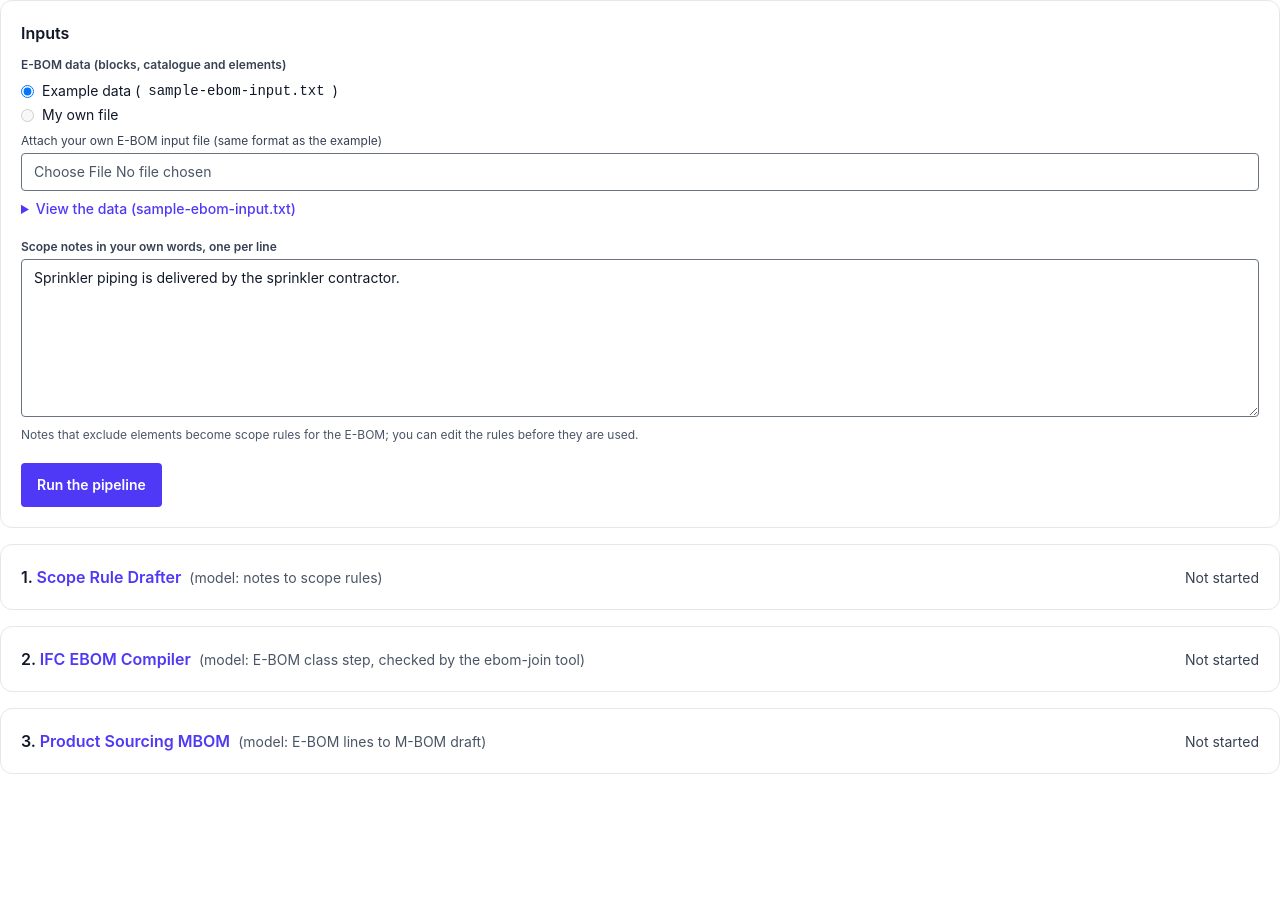
it: PipelineRunner › a failed step stops the pipeline; Start over returns to the inputs
Step 1. Replace the text in the text box labelled "Scope notes in your own words, one per line" with "please fail now" → [640, 338], box x1=21 y1=259 x2=1259 y2=417
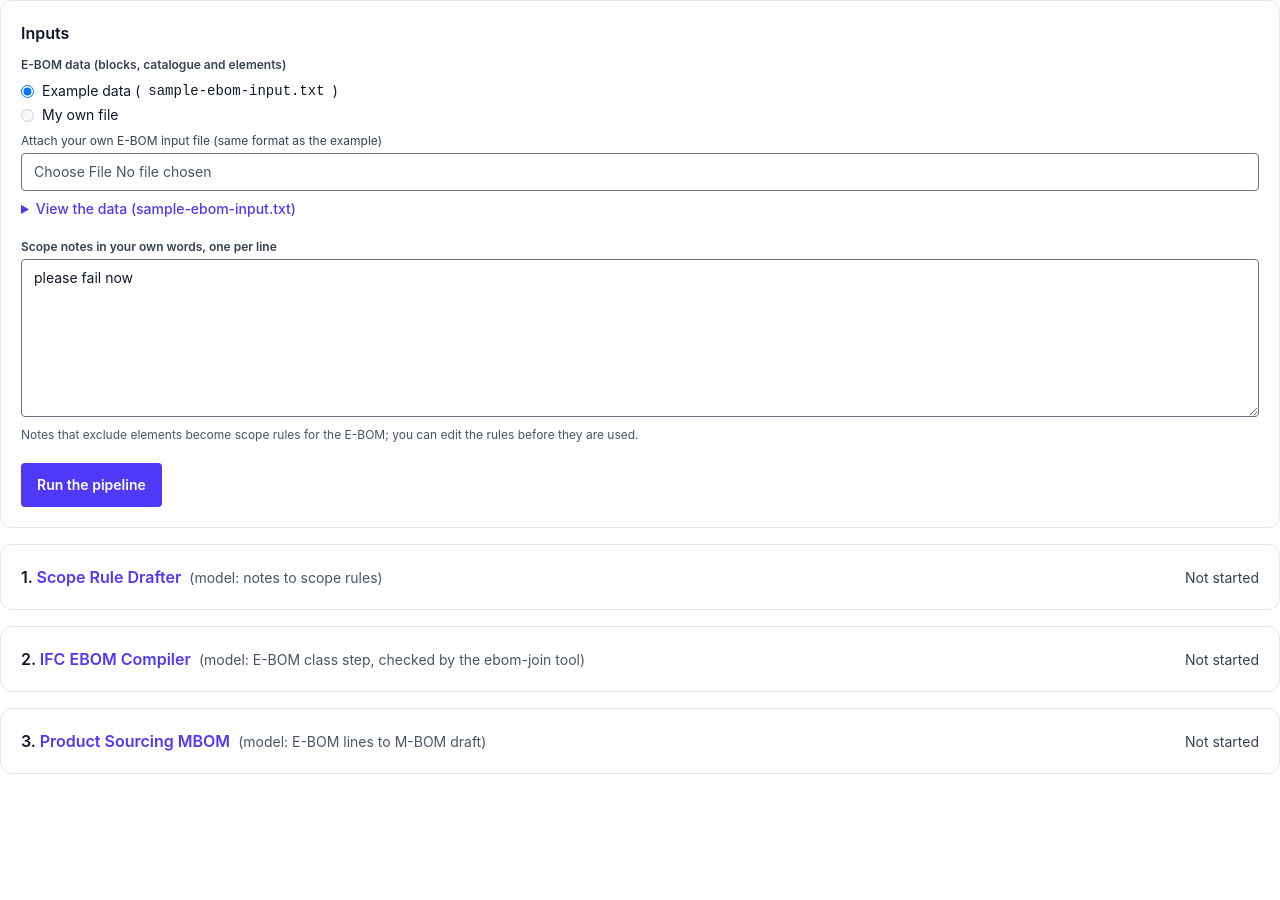
Step 2. Click the button "Run the pipeline" → [91, 485], box x1=21 y1=463 x2=162 y2=507
Wait 4400 ms
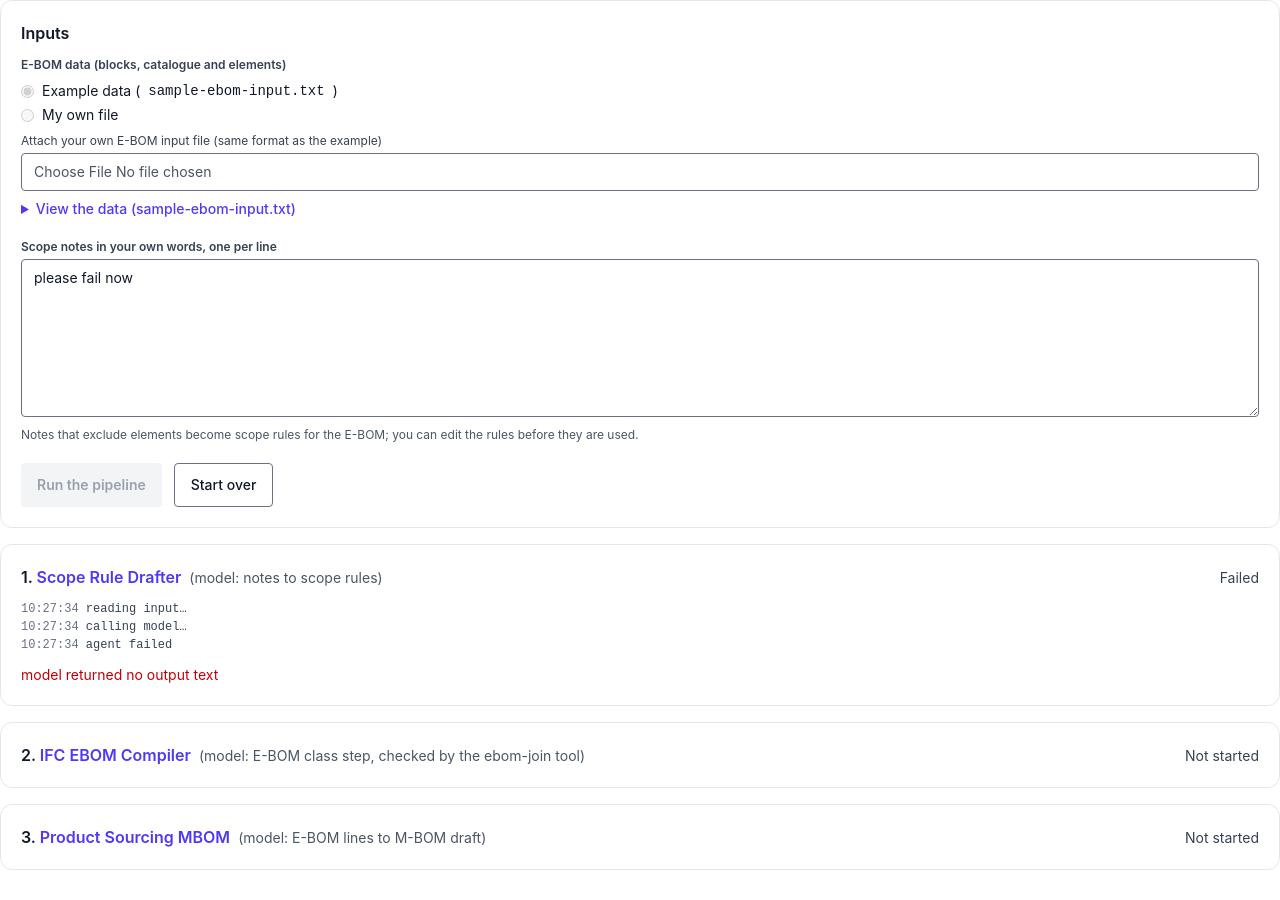
Expected: the text with test id "step-0-status" reads "Failed", x1=1220 y1=569 x2=1259 y2=586
Step 3. Click the button "Start over" → [224, 485], box x1=174 y1=463 x2=273 y2=507
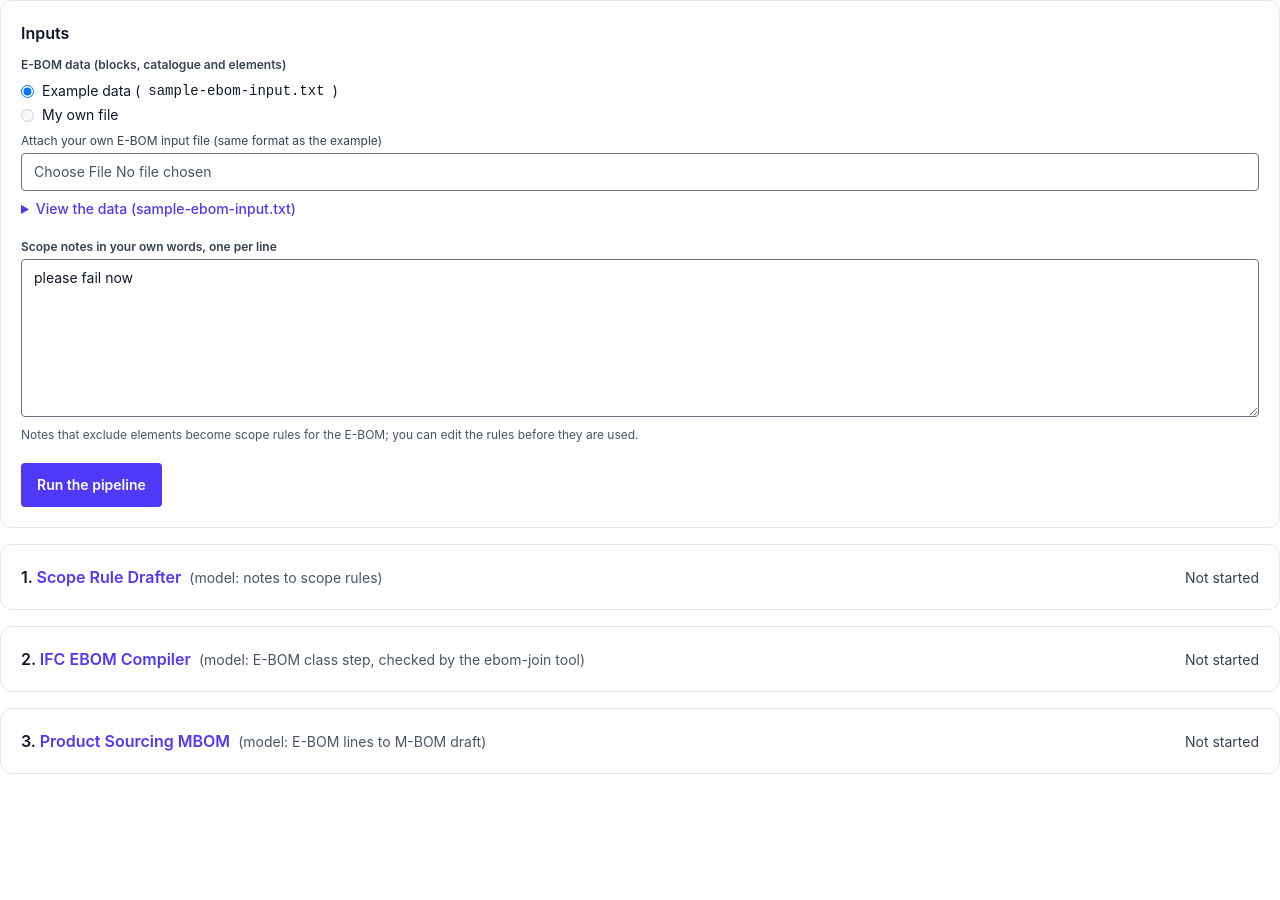
Expected: the button "Run the pipeline" is enabled, x1=21 y1=463 x2=162 y2=507
